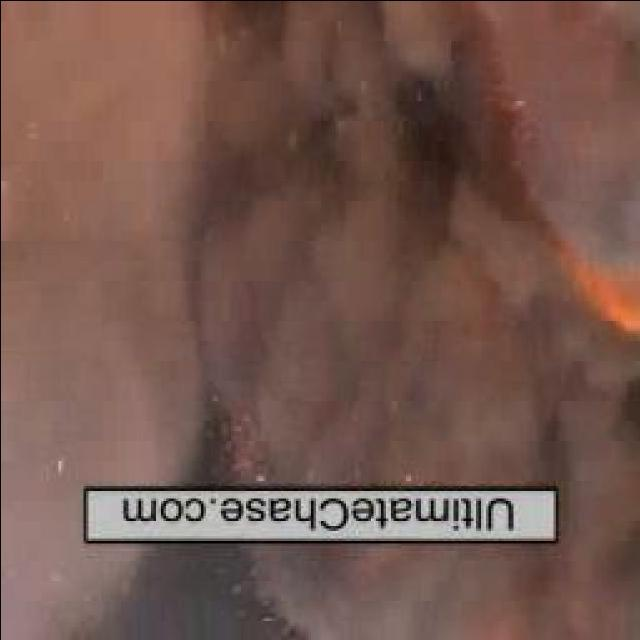Fire: (504, 208, 640, 352), (412, 600, 582, 637)
